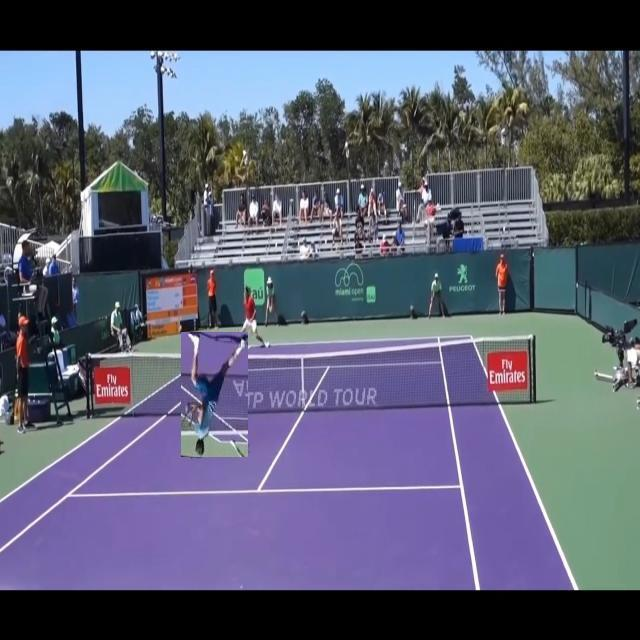court: (0, 334, 579, 590)
net: (84, 336, 538, 409)
player: (181, 332, 248, 457)
